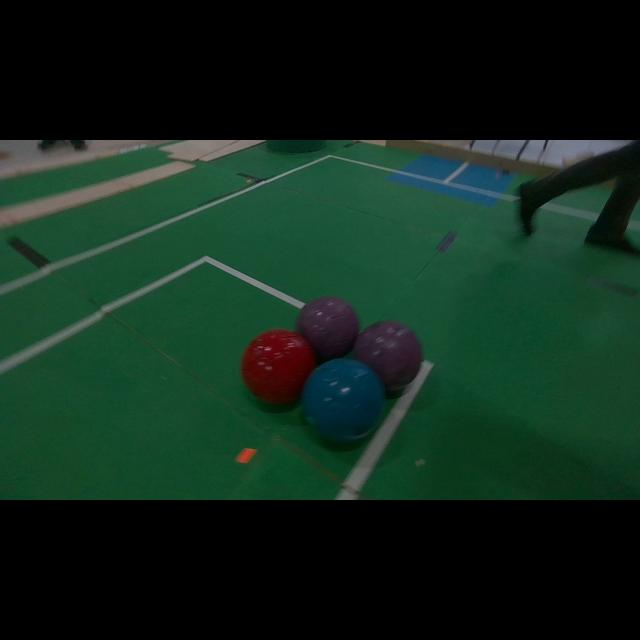B: (302, 359, 385, 441)
P: (354, 321, 422, 390), (296, 296, 359, 361)
R: (241, 329, 316, 404)
